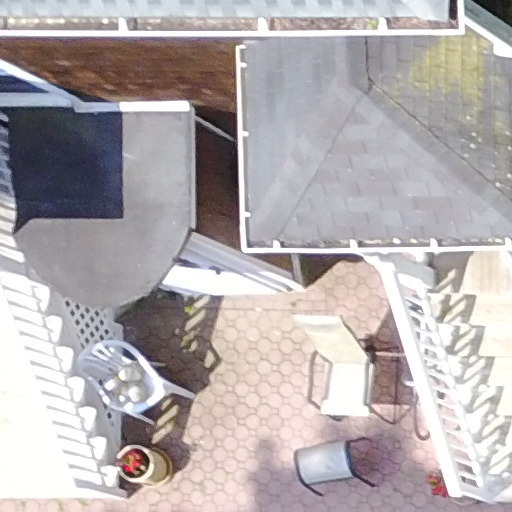flower pot: (104, 436, 183, 498)
